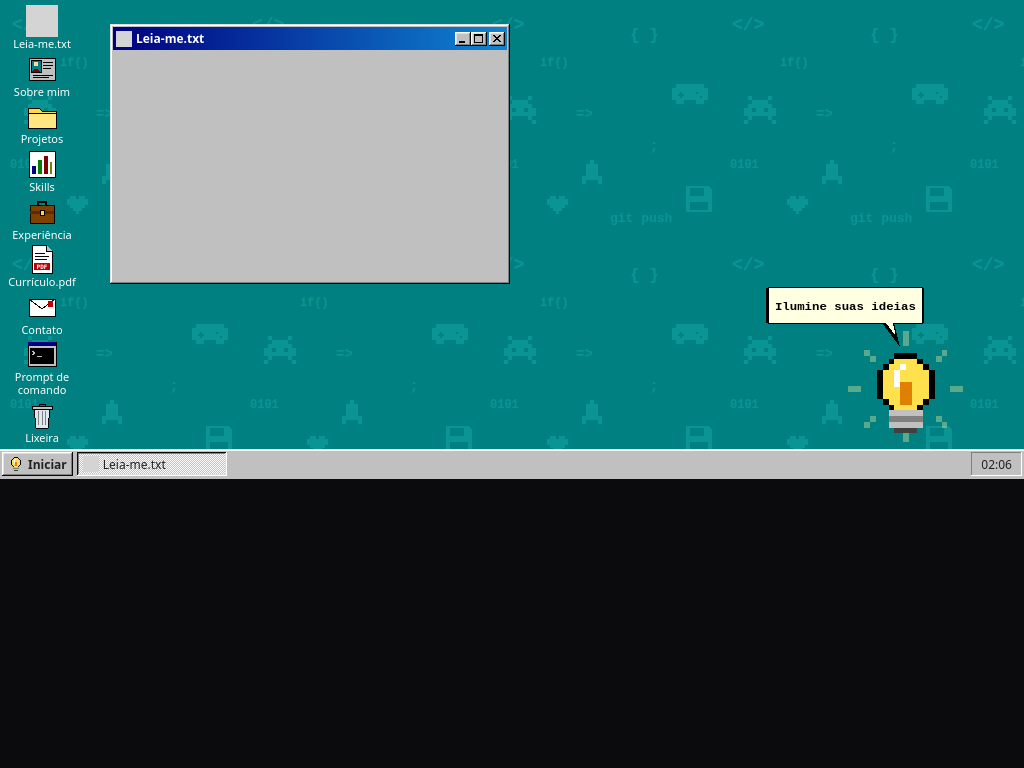
it: Desktop › opens an app with a single click
Click the button "Sobre mim": (42, 75) [4,52,80,99]
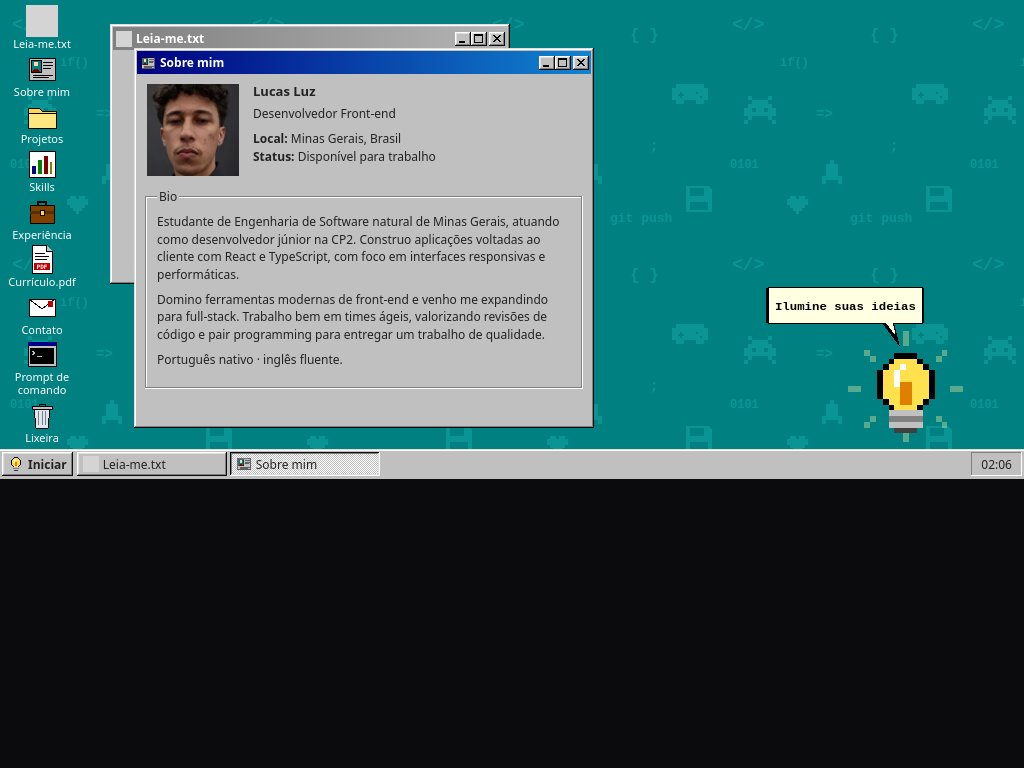
Expected: the dialog "Sobre mim" is shown, [134,48,594,428]
